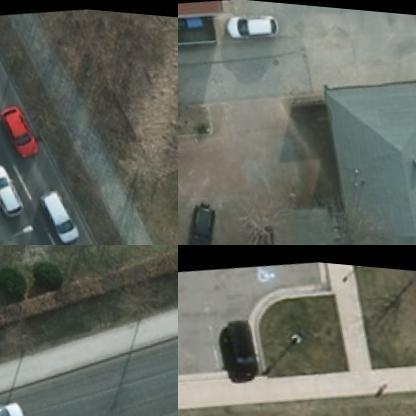car: (220, 310, 258, 378), (40, 186, 80, 240), (221, 3, 278, 40), (0, 100, 35, 158), (178, 194, 218, 244), (0, 159, 22, 220), (0, 393, 21, 415)
